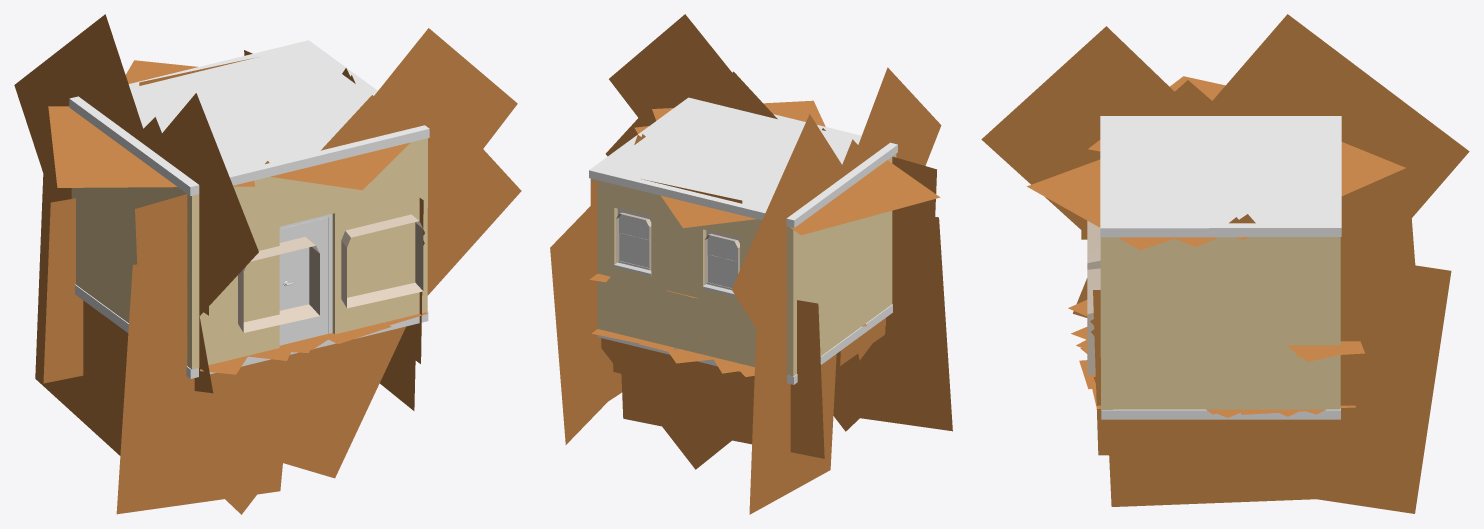
Rendered from FloorPlan4_physics.fbx.
The picture shows the model from 3 angles, left to right: view 1: azimuth 30°, elevation 25°; view 2: azimuth 150°, elevation 25°; view 3: azimuth 270°, elevation 25°; orthographic projection. The views are drawn at different scales.
Visible parts, largest first — view 1: Decals.047, Wall, Ceiling.006, Door.005, Baseboard.030, Baseboard.029, Floor.007, Decals.031, DoorFrame.005, Decals.032; view 2: Decals.047, Wall, Ceiling.006, WindowGlass2, WindowGlass1, Decals.033, Floor.007, WindowPane2, WindowPane1; view 3: Decals.047, Wall, Ceiling.006, Floor.007, Decals.034_3, Baseboard.029, Decals.032, Baseboard.030.
Boxes of the visible parts, x1,y1,x2,y2 form: Decals.047: (14, 14, 521, 514); Wall: (71, 138, 427, 369); Ceiling.006: (69, 40, 429, 195); Door.005: (281, 217, 327, 344); Baseboard.030: (238, 237, 319, 332); Baseboard.029: (341, 214, 423, 308); Floor.007: (75, 284, 428, 378); Decals.031: (200, 337, 315, 374); DoorFrame.005: (279, 214, 332, 345); Decals.032: (310, 312, 427, 349); Decals.047: (550, 14, 952, 514); Wall: (590, 154, 896, 376); Ceiling.006: (589, 97, 897, 227); WindowGlass2: (619, 209, 651, 267); WindowGlass1: (708, 231, 739, 288); Decals.033: (591, 329, 754, 376); Floor.007: (597, 304, 892, 384); WindowPane2: (614, 208, 651, 275); WindowPane1: (702, 230, 737, 296); Decals.047: (981, 14, 1469, 513); Wall: (1100, 237, 1340, 409); Ceiling.006: (1100, 116, 1341, 237); Floor.007: (1101, 408, 1340, 419); Decals.034_3: (1286, 341, 1364, 361); Baseboard.029: (1087, 268, 1100, 375); Decals.032: (1079, 348, 1325, 417); Baseboard.030: (1087, 221, 1100, 269).
Bounding box in the file's own units: 772 × 772 × 766.
